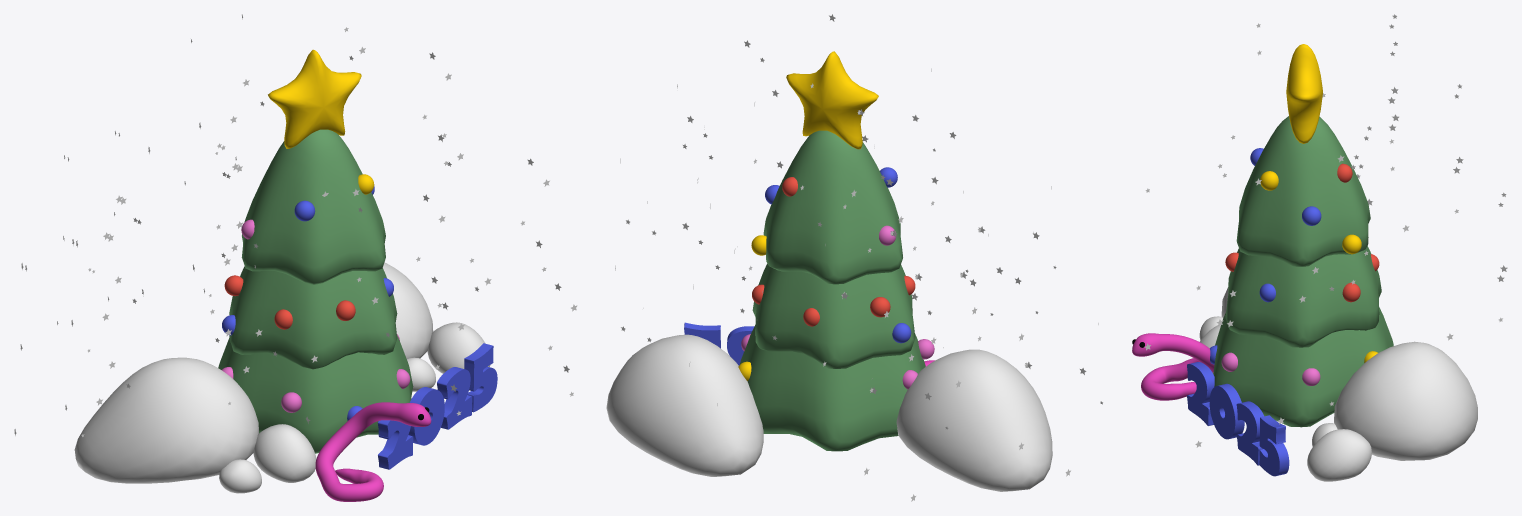
3 renders of one model, left to right at view 1: azimuth 30°, elevation 25°; view 2: azimuth 150°, elevation 25°; view 3: azimuth 270°, elevation 25°, orthographic. The views are drawn at different scales.
Visible parts, largest first — view 1: Sphere.018, Cylinder.003, Cylinder.001, Cylinder.002, Text, Sphere.020, Zvezda, Zmeya; view 2: Sphere.018, Sphere.020, Cylinder.003, Cylinder.002, Cylinder.001, Zvezda, Text; view 3: Sphere.020, Cylinder.003, Cylinder.001, Cylinder.002, Text, Zmeya, Zvezda, Sphere.018.
Part boxes in pixels (x1=…): Sphere.018: x1=74, y1=357, x2=316, y2=493; Cylinder.003: x1=241, y1=129, x2=385, y2=284; Cylinder.001: x1=229, y1=266, x2=397, y2=369; Cylinder.002: x1=218, y1=335, x2=413, y2=453; Text: x1=377, y1=343, x2=497, y2=469; Sphere.020: x1=382, y1=262, x2=490, y2=391; Zvezda: x1=268, y1=49, x2=361, y2=148; Zmeya: x1=315, y1=402, x2=431, y2=501; Sphere.018: x1=896, y1=349, x2=1052, y2=491; Sphere.020: x1=606, y1=334, x2=763, y2=476; Cylinder.003: x1=763, y1=130, x2=902, y2=284; Cylinder.002: x1=740, y1=324, x2=925, y2=451; Cylinder.001: x1=752, y1=263, x2=915, y2=368; Zvezda: x1=786, y1=51, x2=878, y2=149; Text: x1=684, y1=322, x2=754, y2=365; Sphere.020: x1=1307, y1=341, x2=1477, y2=481; Cylinder.003: x1=1236, y1=116, x2=1370, y2=266; Cylinder.001: x1=1225, y1=246, x2=1381, y2=347; Cylinder.002: x1=1213, y1=307, x2=1393, y2=427; Text: x1=1187, y1=362, x2=1289, y2=476; Zmeya: x1=1132, y1=333, x2=1214, y2=400; Zvezda: x1=1286, y1=44, x2=1322, y2=143; Sphere.018: x1=1199, y1=287, x2=1228, y2=373.
Bounding box in the file's own units: 2.8 × 2.12 × 1.91.
